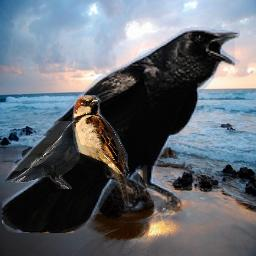Crow: (2, 27, 240, 233), (12, 121, 94, 189)
Swallow: (72, 95, 129, 205)
